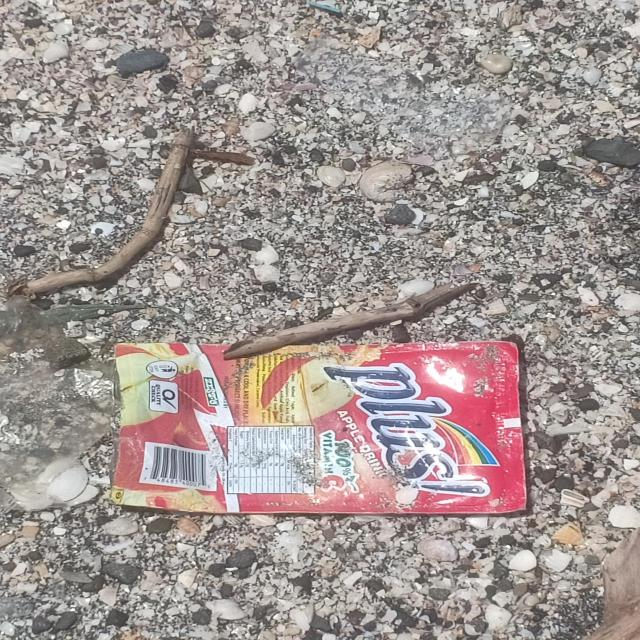plastic_waste: (108, 338, 532, 519)
